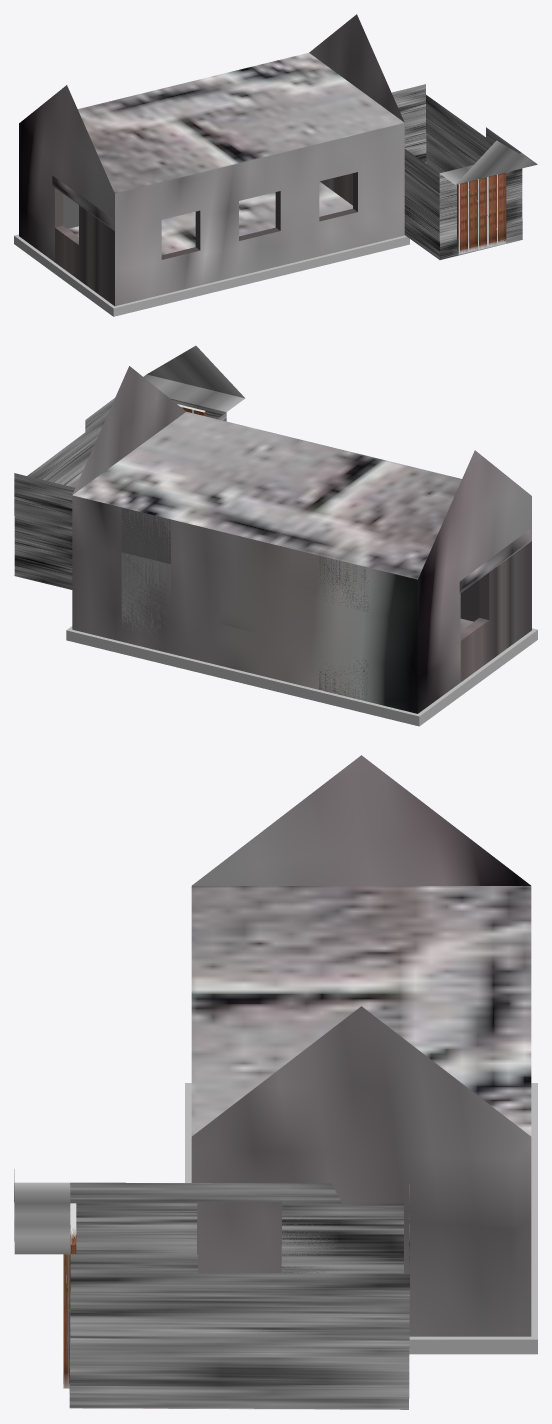
File: house 1.fbx
3 renders of one model, top to bottom at view 1: azimuth 30°, elevation 25°; view 2: azimuth 150°, elevation 25°; view 3: azimuth 270°, elevation 25°, orthographic. The views are drawn at different scales.
Parts seen in each view (by area): view 1: wall1, floor1, wall1.002, Socle1, Cube; view 2: wall1, floor1, wall1.002, Socle1; view 3: wall1, wall1.002, floor1, Socle1, Cube.
Part boxes in pixels (x1=…): wall1: x1=19, y1=14, x2=404, y2=306; floor1: x1=68, y1=53, x2=404, y2=255; wall1.002: x1=392, y1=84, x2=537, y2=259; Socle1: x1=14, y1=234, x2=409, y2=316; Cube: x1=457, y1=172, x2=506, y2=254; wall1: x1=14, y1=366, x2=531, y2=713; floor1: x1=72, y1=411, x2=473, y2=630; wall1.002: x1=14, y1=345, x2=245, y2=589; Socle1: x1=66, y1=626, x2=537, y2=726; wall1: x1=69, y1=755, x2=531, y2=1409; wall1.002: x1=14, y1=1169, x2=409, y2=1409; floor1: x1=191, y1=886, x2=531, y2=1136; Socle1: x1=185, y1=1083, x2=537, y2=1354; Cube: x1=63, y1=1203, x2=76, y2=1388.
Size of the model in its own units: 910 by 449 by 618.
